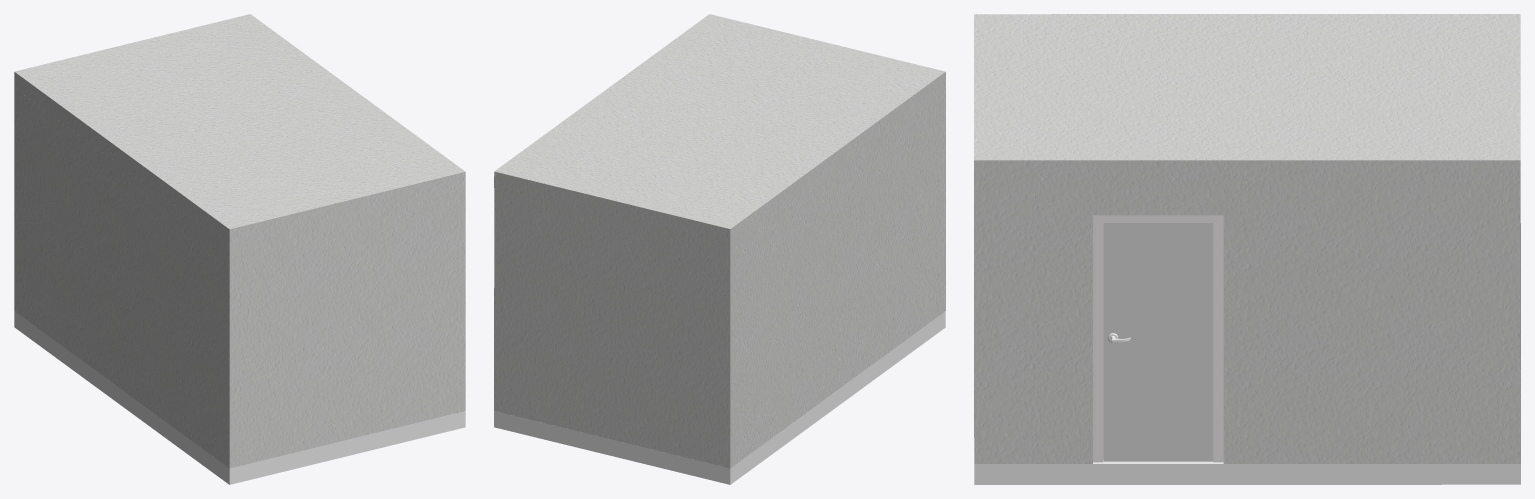
The model's file is FloorPlan409_physics.fbx.
3 views of the same model, side by side, from view 1: azimuth 30°, elevation 25°; view 2: azimuth 150°, elevation 25°; view 3: azimuth 270°, elevation 25° (orthographic). The views are drawn at different scales.
Parts seen in each view (by area): view 1: FP409:Walls, FP409:Ceiling, FP409:Floor; view 2: FP409:Walls, FP409:Ceiling, FP409:Floor; view 3: FP409:Walls, FP409:Ceiling, FP409:Door.017, FP409:Floor, FP409:DoorFrame.017.
Boxes of the visible parts, left/top/right/bottom form: FP409:Walls: left=14, top=88, right=465, bottom=468; FP409:Ceiling: left=14, top=14, right=465, bottom=245; FP409:Floor: left=14, top=311, right=465, bottom=484; FP409:Walls: left=494, top=88, right=945, bottom=468; FP409:Ceiling: left=494, top=14, right=945, bottom=245; FP409:Floor: left=494, top=311, right=945, bottom=484; FP409:Walls: left=974, top=181, right=1520, bottom=463; FP409:Ceiling: left=974, top=14, right=1520, bottom=181; FP409:Door.017: left=1103, top=223, right=1213, bottom=461; FP409:Floor: left=974, top=460, right=1520, bottom=484; FP409:DoorFrame.017: left=1093, top=215, right=1223, bottom=462.
Size of the model in its own units: 268 by 274 by 418.
